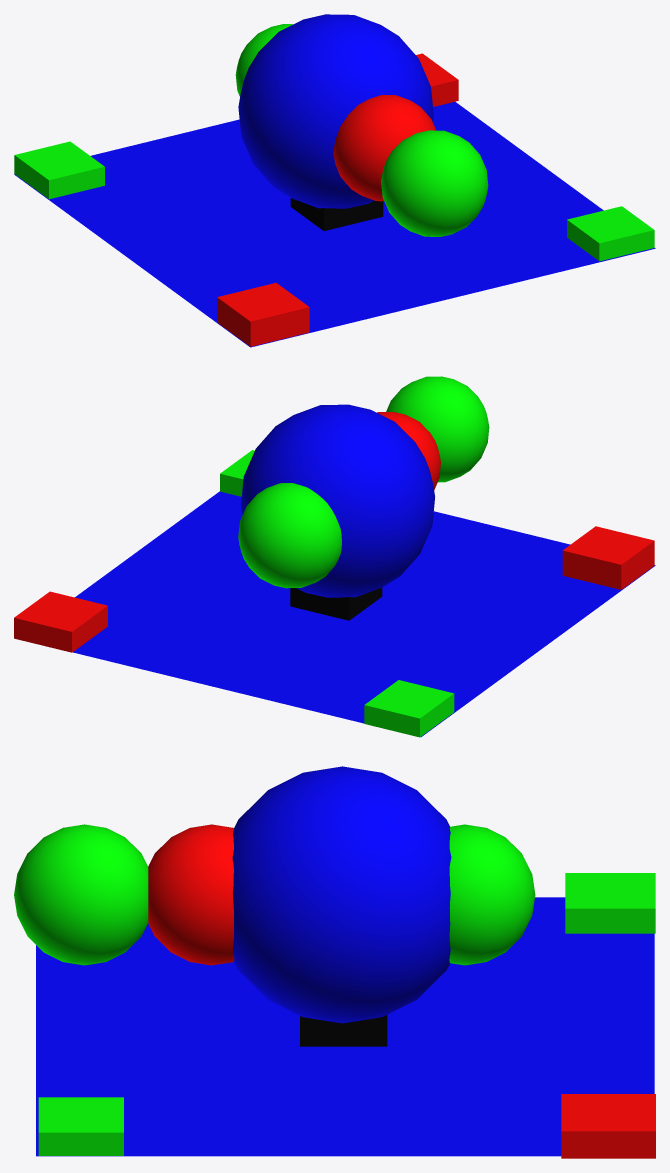
3 views of the same model, one above another, from view 1: azimuth 30°, elevation 25°; view 2: azimuth 150°, elevation 25°; view 3: azimuth 270°, elevation 25° (orthographic). The views are drawn at different scales.
Parts seen in each view (by area): view 1: Plane001, GeoSphere001, GeoSphere004, GeoSphere003, Box005, Box003, Box002, Box001, Box004, GeoSphere002; view 2: Plane001, GeoSphere001, GeoSphere002, GeoSphere004, Box005, Box004, Box003, Box001, GeoSphere003, Box002; view 3: Plane001, GeoSphere001, GeoSphere004, GeoSphere003, GeoSphere002, Box004, Box003, Box002, Box001.
Part boxes in pixels (box(x1,y1,x2,y2)): Plane001: box(14, 102, 655, 347); GeoSphere001: box(238, 14, 433, 208); GeoSphere004: box(381, 130, 488, 236); GeoSphere003: box(333, 95, 436, 201); Box005: box(217, 283, 309, 346); Box003: box(14, 141, 104, 199); Box002: box(567, 206, 654, 261); Box001: box(290, 198, 383, 230); Box004: box(416, 53, 458, 106); GeoSphere002: box(235, 24, 292, 96); Plane001: box(73, 491, 655, 737); GeoSphere001: box(241, 404, 434, 597); GeoSphere002: box(238, 483, 341, 588); GeoSphere004: box(386, 376, 489, 482); Box005: box(562, 526, 654, 589); Box004: box(14, 591, 107, 652); Box003: box(364, 680, 454, 737); Box001: box(290, 587, 382, 620); GeoSphere003: box(377, 412, 440, 490); Box002: box(220, 450, 254, 496); Plane001: box(36, 897, 654, 1156); GeoSphere001: box(232, 766, 451, 1023); GeoSphere004: box(14, 824, 148, 965); GeoSphere003: box(148, 824, 234, 965); GeoSphere002: box(449, 824, 535, 965); Box004: box(561, 1094, 655, 1158); Box003: box(565, 873, 655, 933); Box002: box(38, 1097, 123, 1155); Box001: box(300, 1015, 387, 1046).
Bounding box in the file's own units: 140 × 145 × 61.97.
